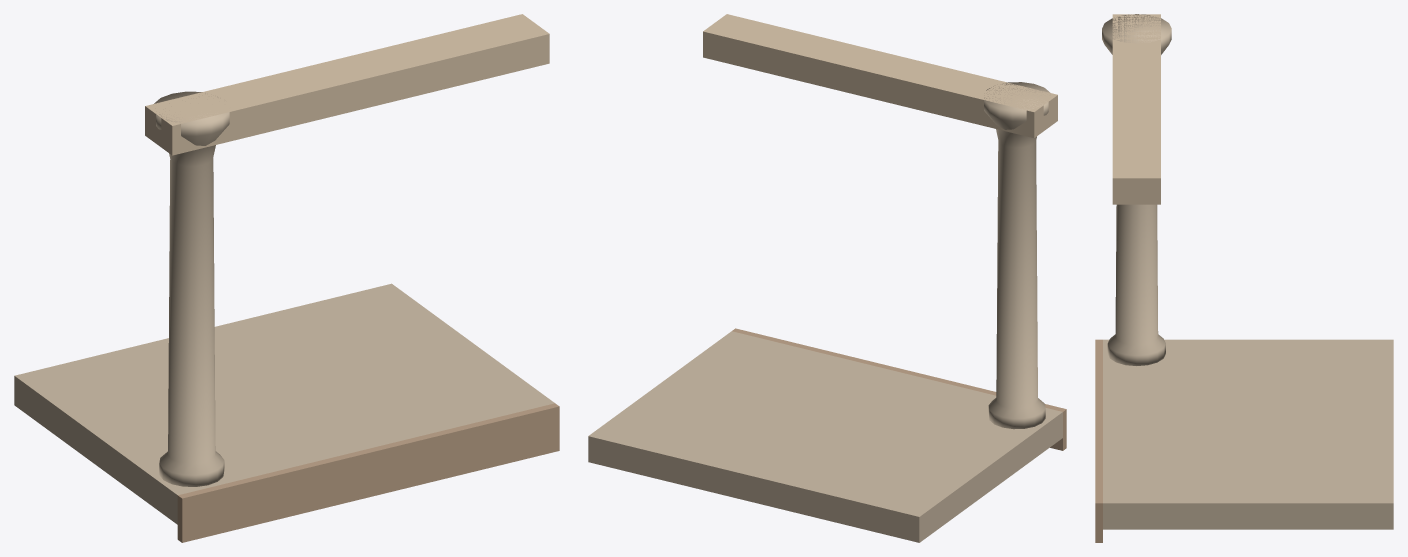
Rendered from city_walk_bay.glb.
The picture shows the model from 3 angles, left to right: view 1: azimuth 30°, elevation 25°; view 2: azimuth 150°, elevation 25°; view 3: azimuth 270°, elevation 25°; orthographic projection. The views are drawn at different scales.
Visible parts, largest first — view 1: CityWalkBay_Deck, CityWalkBay_Beam, CityWalkBay_Edge, CityWalkBay_Column; view 2: CityWalkBay_Deck, CityWalkBay_Beam, CityWalkBay_Column, CityWalkBay_Edge; view 3: CityWalkBay_Deck, CityWalkBay_Beam, CityWalkBay_Column, CityWalkBay_Edge.
Boxes of the visible parts, left/top/right/bottom form: CityWalkBay_Deck: left=14, top=283, right=554, bottom=524; CityWalkBay_Beam: left=145, top=14, right=549, bottom=155; CityWalkBay_Edge: left=177, top=403, right=559, bottom=542; CityWalkBay_Column: left=154, top=91, right=229, bottom=486; CityWalkBay_Deck: left=588, top=331, right=1062, bottom=542; CityWalkBay_Beam: left=703, top=14, right=1057, bottom=137; CityWalkBay_Column: left=984, top=82, right=1050, bottom=429; CityWalkBay_Edge: left=732, top=328, right=1066, bottom=450; CityWalkBay_Deck: left=1103, top=339, right=1393, bottom=529; CityWalkBay_Beam: left=1112, top=14, right=1160, bottom=204; CityWalkBay_Column: left=1102, top=14, right=1171, bottom=365; CityWalkBay_Edge: left=1095, top=339, right=1102, bottom=542.
Bounding box in the file's own units: 4.01 × 4.15 × 3.08.
